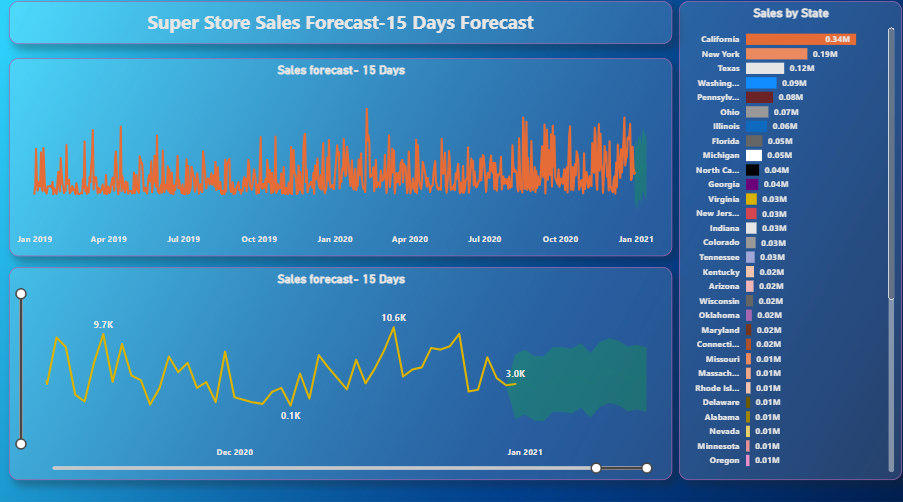

Layout of this report page (visuals, bound fields, positions):
{"tool":"powerbi","page":{"name":"Sales Forecast","canvas":[1280,720],"ordinal":1},"visuals":[{"type":"lineChart","title":"Sales forecast- 15 Days","fields":{"Y":["Sum(SuperStore_Sales_Dataset.Sales)"],"Category":["SuperStore_Sales_Dataset.Order Date"]},"box":[14.2,90.7,939.7,280.6],"z":0},{"type":"lineChart","title":"Sales forecast- 15 Days","fields":{"Y":["Sum(SuperStore_Sales_Dataset.Sales)"],"Category":["SuperStore_Sales_Dataset.Order Date"]},"box":[14.2,386.9,939.7,301.9],"z":1000},{"type":"barChart","title":"Sales by State","fields":{"Y":["Sum(SuperStore_Sales_Dataset.Sales)"],"Category":["SuperStore_Sales_Dataset.State"]},"box":[963.8,9.9,316.1,678.9],"z":2000},{"type":"textbox","box":[14.2,9.9,939.7,60.9],"z":3000}]}

Visuals, with their boxes in screenshot pixels (x1, y1, x2, y2), scaled from the page's 1280x720 canvas onto the 903x502 screenshot:
"Sales forecast- 15 Days" lineChart: [10, 63, 673, 259]
"Sales forecast- 15 Days" lineChart: [10, 270, 673, 480]
"Sales by State" barChart: [680, 7, 902, 480]
textbox: [10, 7, 673, 49]
